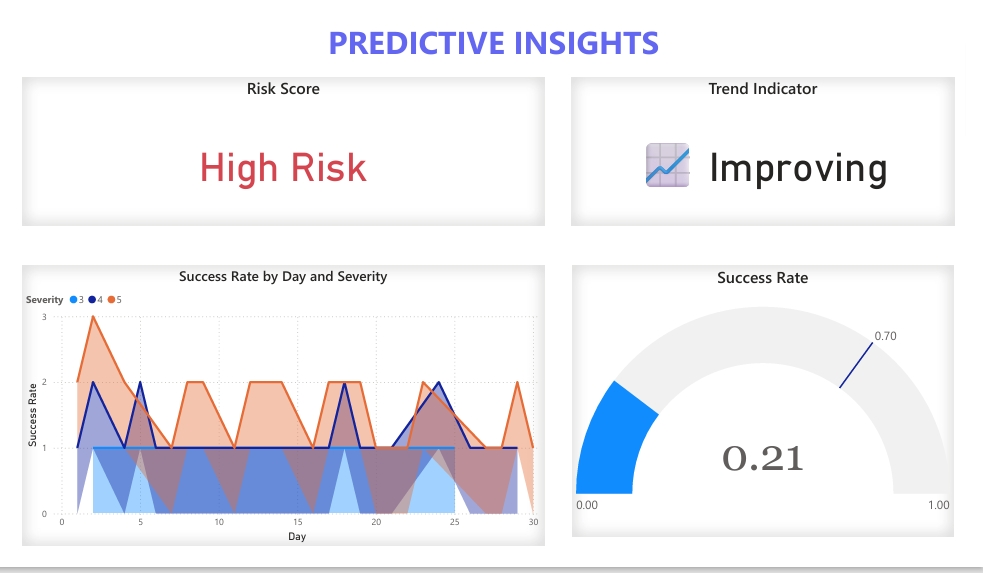

This screenshot's page, from the dashboard's own definition file:
{"tool":"powerbi","page":{"name":"Page 4","canvas":[1280,720],"ordinal":3},"visuals":[{"type":"textbox","box":[10.2,0,1270.2,68.8],"z":0},{"type":"card","title":"Risk Score","fields":{"Values":["Min(habit_data.Risk Score)"]},"box":[10.2,83.2,702.8,198.6],"z":1000},{"type":"card","title":"Trend Indicator","fields":{"Values":["habit_data.Trend Indicator"]},"box":[750.3,83.2,514.4,198.6],"z":2000},{"type":"gauge","fields":{"Y":["habit_data.Success Rate"]},"box":[750.7,336.6,513.7,365.9],"z":3000},{"type":"stackedAreaChart","fields":{"Category":["habit_data.Date.Variation.Date Hierarchy.Day"],"Y":["habit_data.Success Rate"],"Series":["habit_data.Severity"]},"box":[10.2,336.6,702.4,377.6],"z":4000}]}

Visuals, with their boxes on the page's 1280x720 design canvas (x1, y1, x2, y2). These are canvas units, not pixel positions in the 983x573 screenshot, which may show the page scaled, cropped or inside an application window:
textbox: 10 0 1280 69
"Risk Score" card: 10 83 713 282
"Trend Indicator" card: 750 83 1265 282
gauge - habit_data.Success Rate: 751 337 1264 702
stackedAreaChart - habit_data.Date.Variation.Date Hierarchy.Day x habit_data.Success Rate: 10 337 713 714
